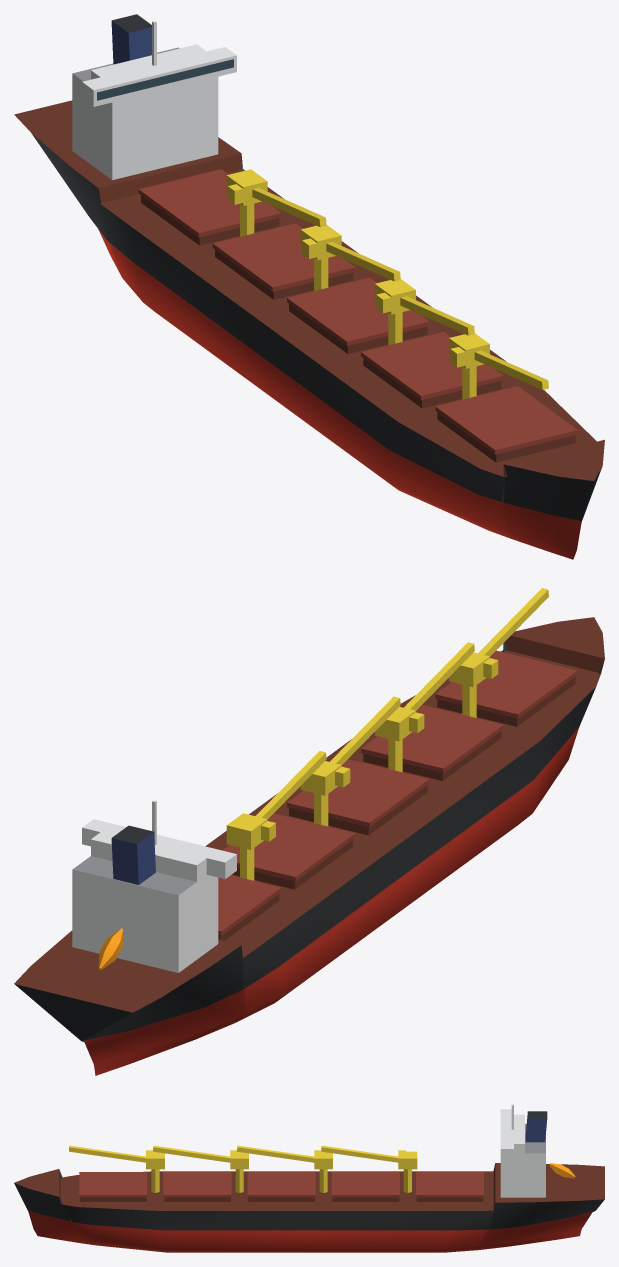
Rendered from ambient_bulk_carrier_far.fbx.
3 renders of one model, top to bottom at view 1: azimuth 30°, elevation 25°; view 2: azimuth 150°, elevation 25°; view 3: azimuth 270°, elevation 25°, orthographic. The views are drawn at different scales.
Parts seen in each view (by area): view 1: ambient_bulk_carrier_far; view 2: ambient_bulk_carrier_far; view 3: ambient_bulk_carrier_far.
Part boxes in pixels (<box>): ambient_bulk_carrier_far: <box>14,14,604,559</box>; ambient_bulk_carrier_far: <box>14,588,604,1075</box>; ambient_bulk_carrier_far: <box>14,1104,604,1252</box>.
Size of the model in its own units: 27 by 41.7 by 170.
